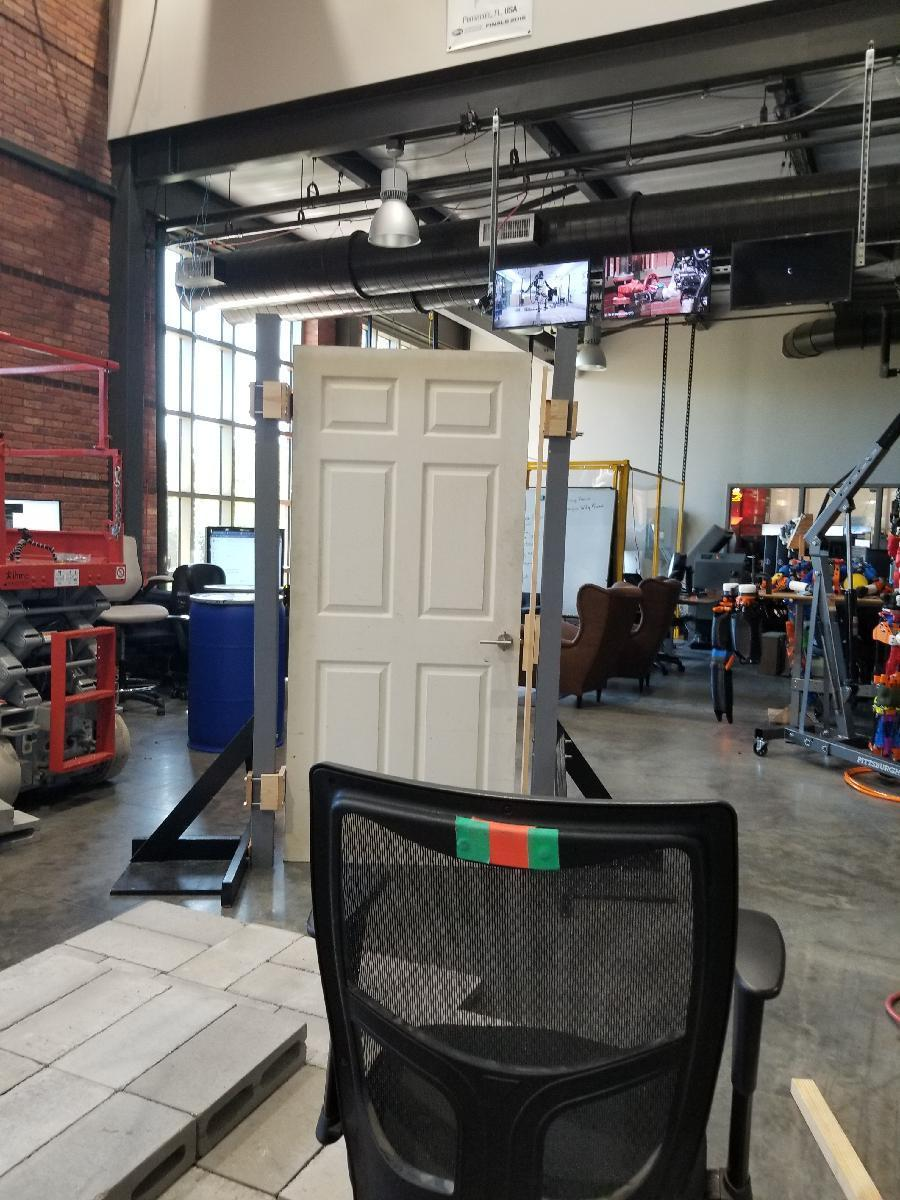door: (296, 338, 526, 871)
handle: (478, 631, 516, 653)
